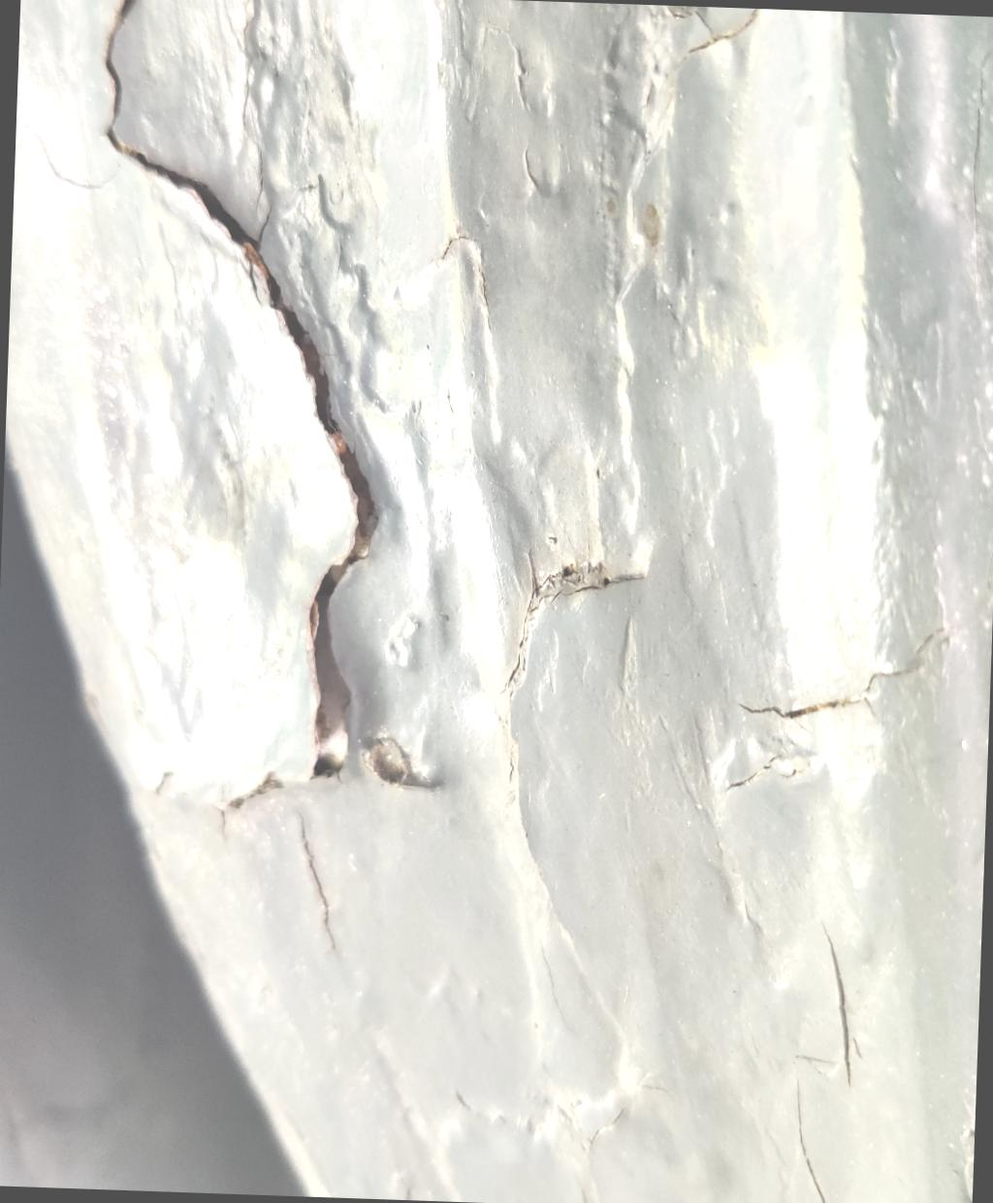crack: (0, 0, 534, 862)
